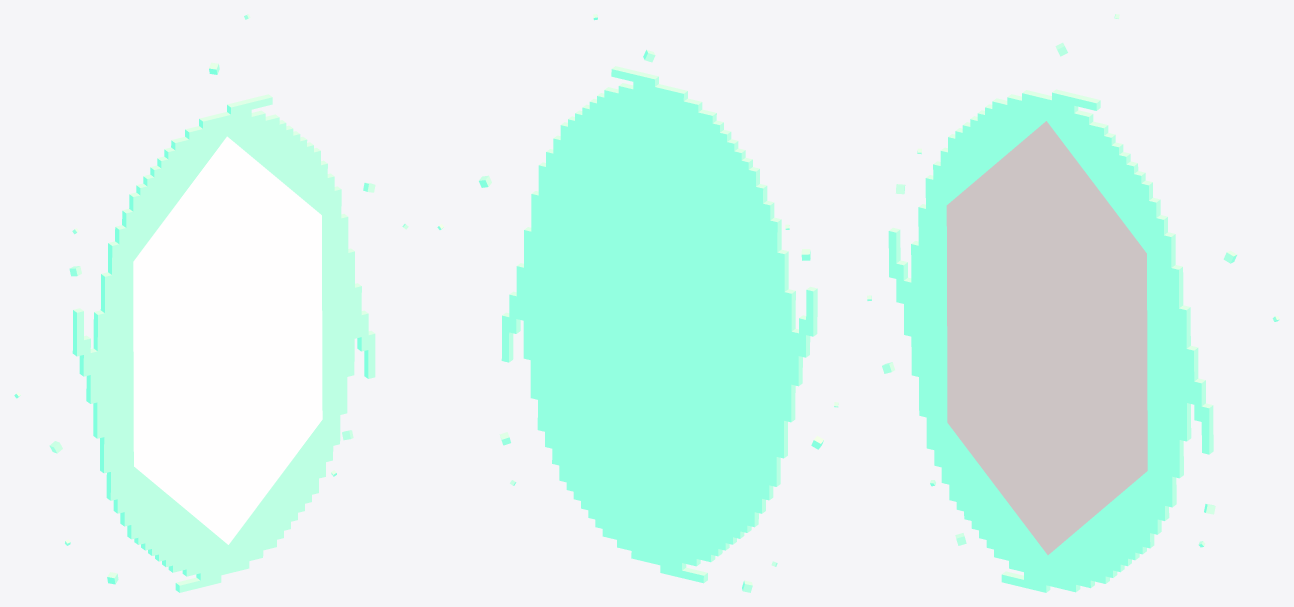
File: portal-blue.gltf
3 views of the same model, side by side, from view 1: azimuth 30°, elevation 25°; view 2: azimuth 150°, elevation 25°; view 3: azimuth 330°, elevation 25° (orthographic). The views are drawn at different scales.
Visible parts, largest first — view 1: Circle, Blue; view 2: Blue; view 3: Circle, Blue.
Boxes of the visible parts, left/top/right/bottom form: Circle: left=133, top=136, right=322, bottom=544; Blue: left=14, top=14, right=408, bottom=592; Blue: left=437, top=14, right=838, bottom=592; Circle: left=946, top=121, right=1147, bottom=554; Blue: left=867, top=14, right=1279, bottom=592.
Size of the model in its own units: 5.6 by 7.42 by 0.6871.
